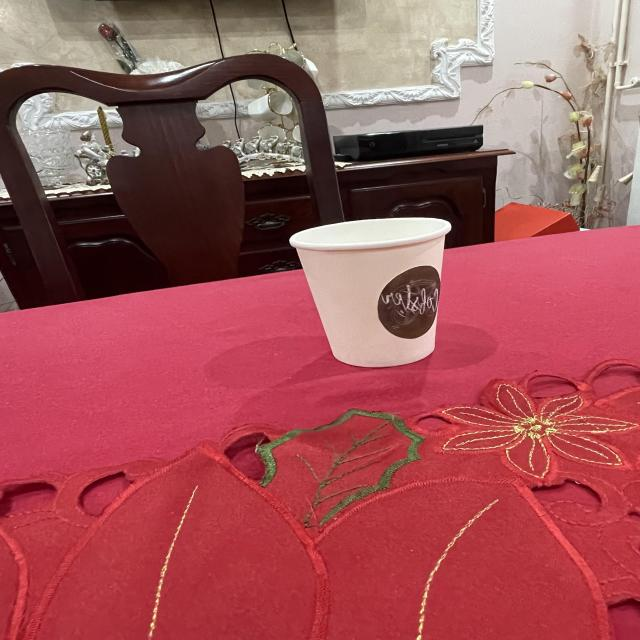small: (284, 208, 456, 370)
